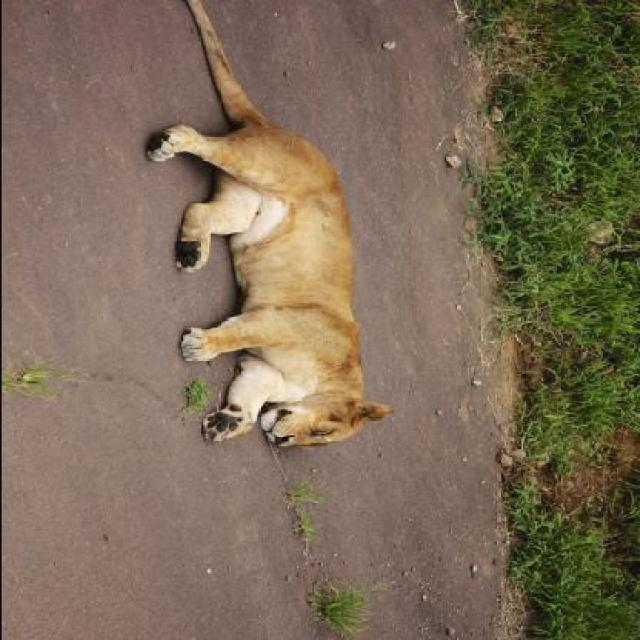Lion: (111, 2, 391, 460)
